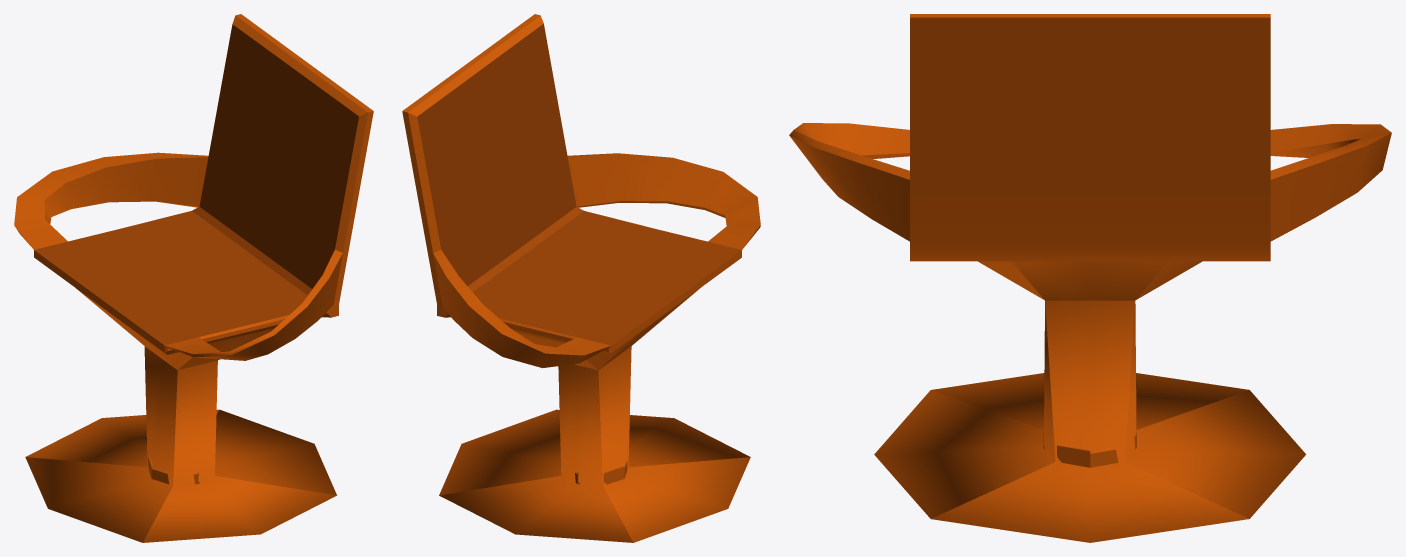
The model's file is Chair.fbx.
3 renders of one model, left to right at view 1: azimuth 30°, elevation 25°; view 2: azimuth 150°, elevation 25°; view 3: azimuth 270°, elevation 25°, orthographic. The views are drawn at different scales.
Parts seen in each view (by area): view 1: pasted__Chair; view 2: pasted__Chair; view 3: pasted__Chair.
Part boxes in pixels (x1,y1,x2,y2): pasted__Chair: [14, 14, 373, 542]; pasted__Chair: [402, 14, 760, 542]; pasted__Chair: [789, 14, 1391, 542].
Bounding box in the file's own units: 9.06 × 12.92 × 13.05.
